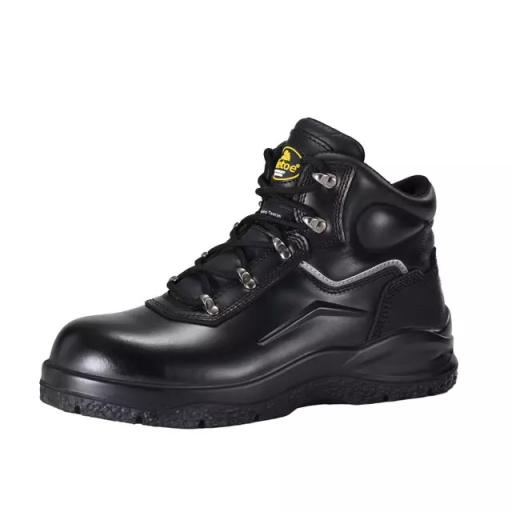safety_boots: (28, 258, 490, 426)
